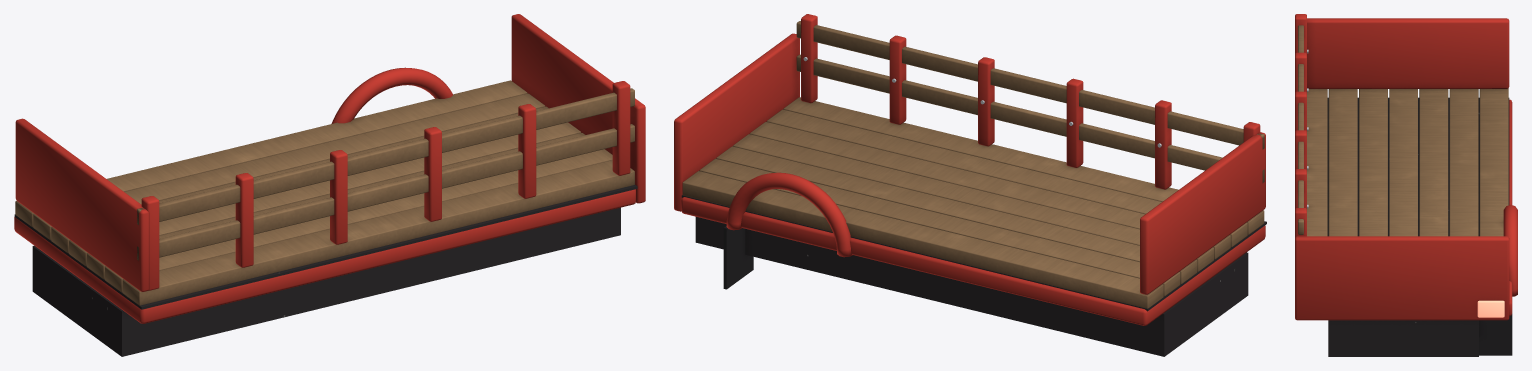
The model's file is truck_bed.fbx.
3 views of the same model, side by side, from view 1: azimuth 30°, elevation 25°; view 2: azimuth 150°, elevation 25°; view 3: azimuth 270°, elevation 25° (orthographic). The views are drawn at different scales.
Visible parts, largest first — view 1: truck_bed; view 2: truck_bed; view 3: truck_bed.
Part boxes in pixels (box(x1,y1,x2,y2)): truck_bed: box(14, 14, 645, 356); truck_bed: box(674, 14, 1266, 356); truck_bed: box(1295, 14, 1517, 356).
Size of the model in its own units: 3.28 by 1.17 by 1.48.
